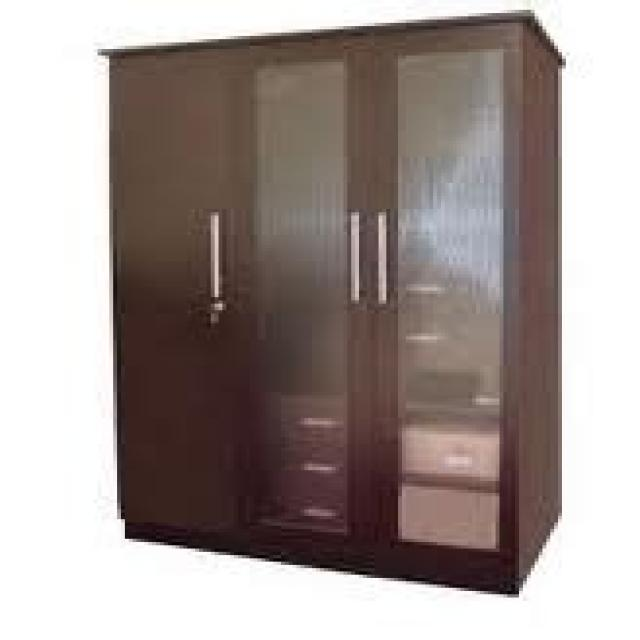Closet: (82, 6, 590, 613)
